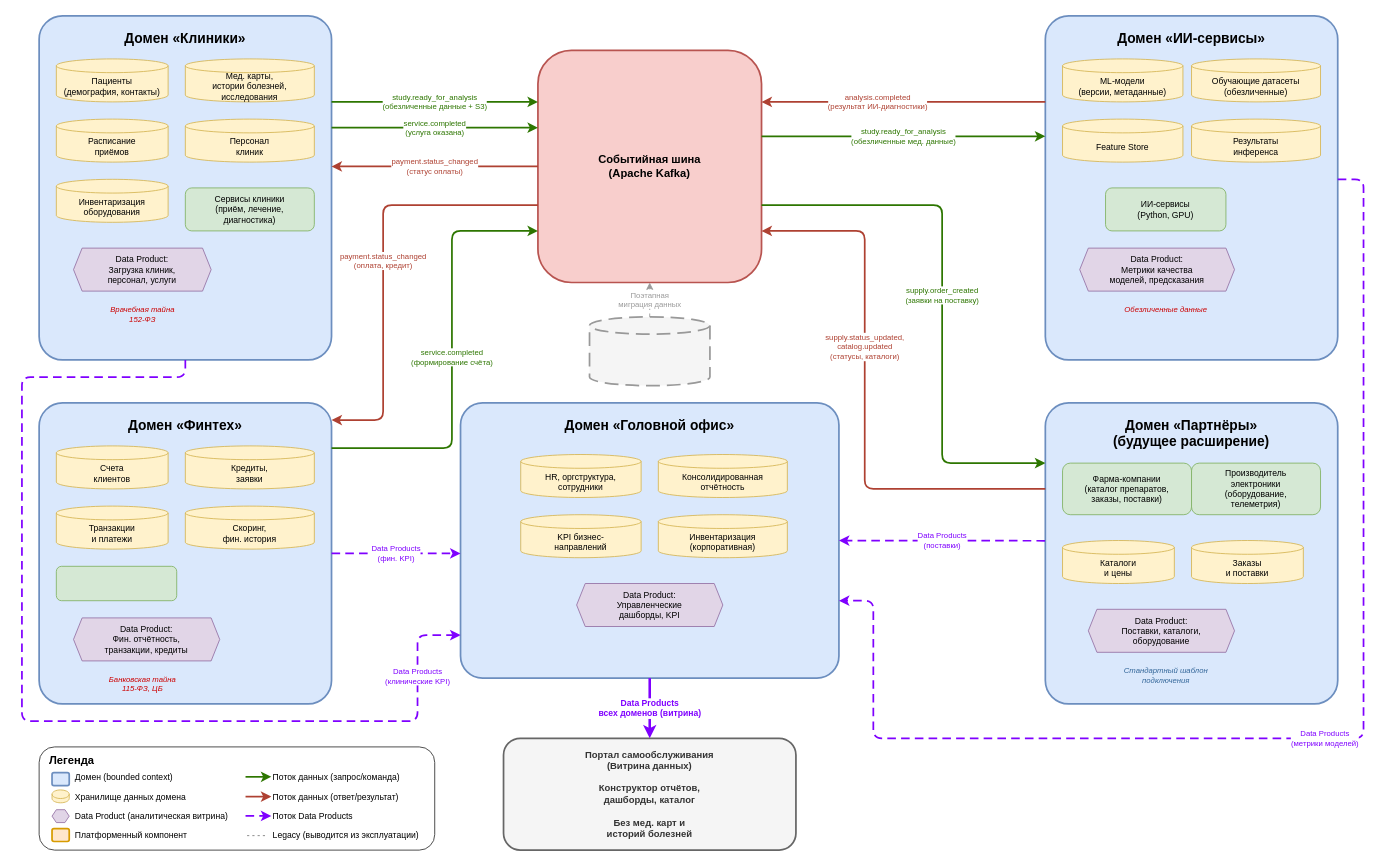
This 1385x865 diagram has some shape labels left out. Each missing label, with the centre of its shape:
"Legacy DWH (SQL Server 2008) ТОЛЬКО ЧТЕНИЕ Поэтапная миграция" belongs at (x=649, y=351).
"Финтех-сервисы (Golang, Java)" belongs at (x=116, y=583).
